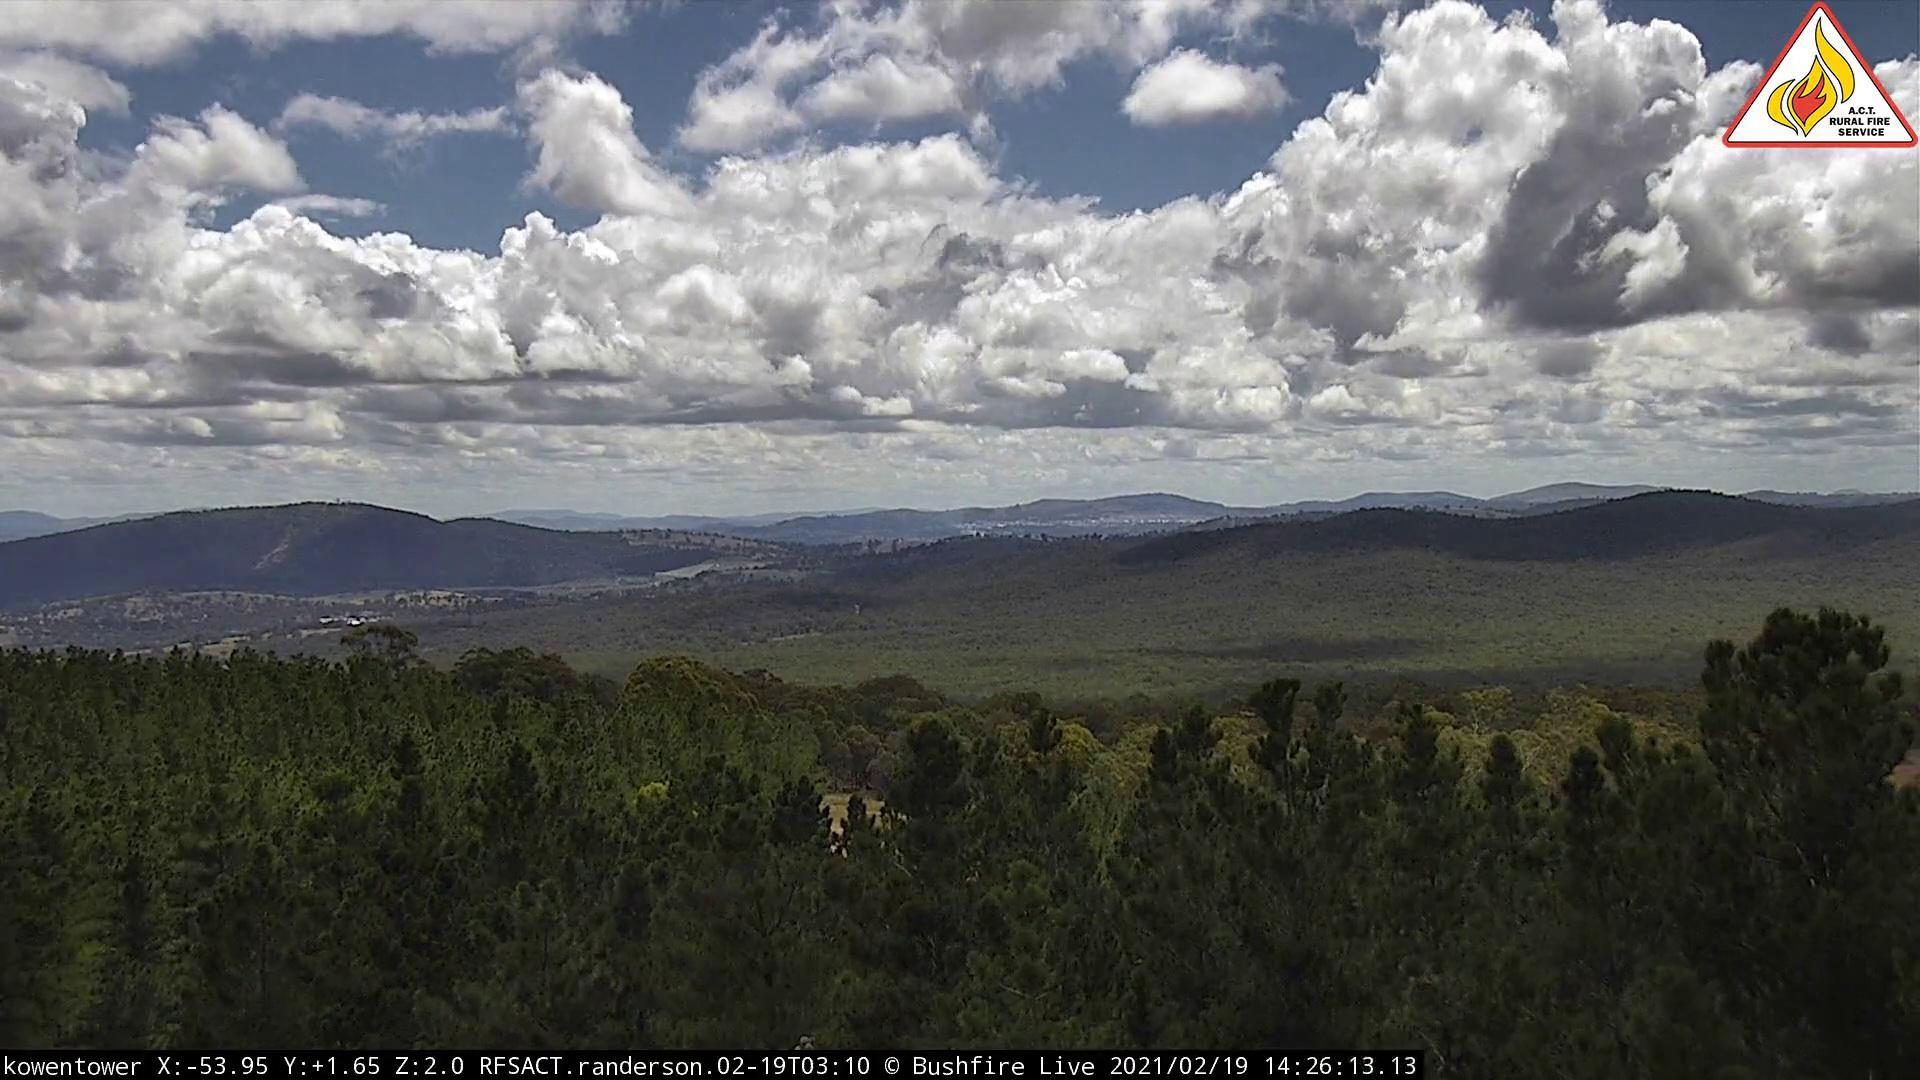instance_salient_object: (955, 514, 996, 549)
